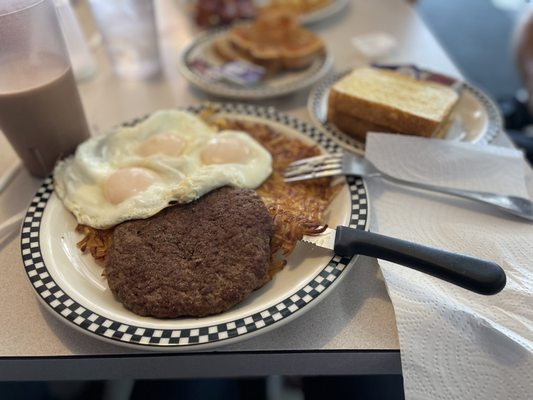sandwich: (287, 144, 533, 223)
